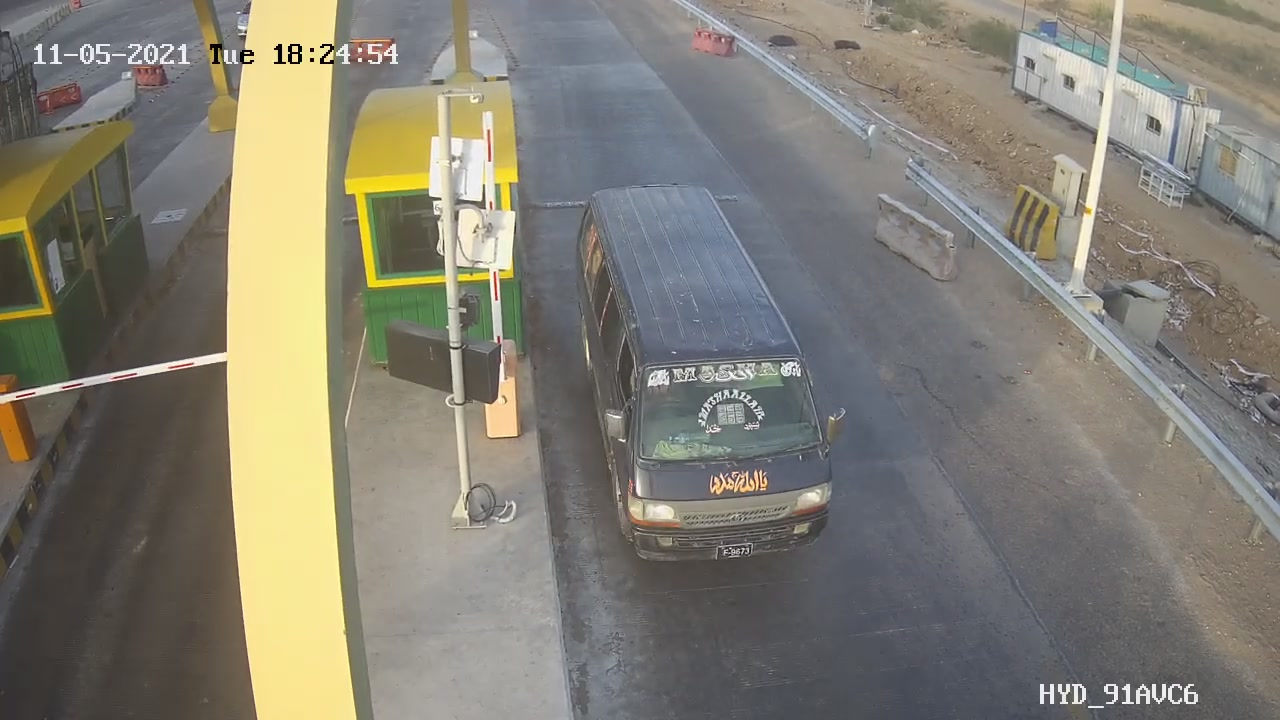F2: (564, 186, 861, 569)
